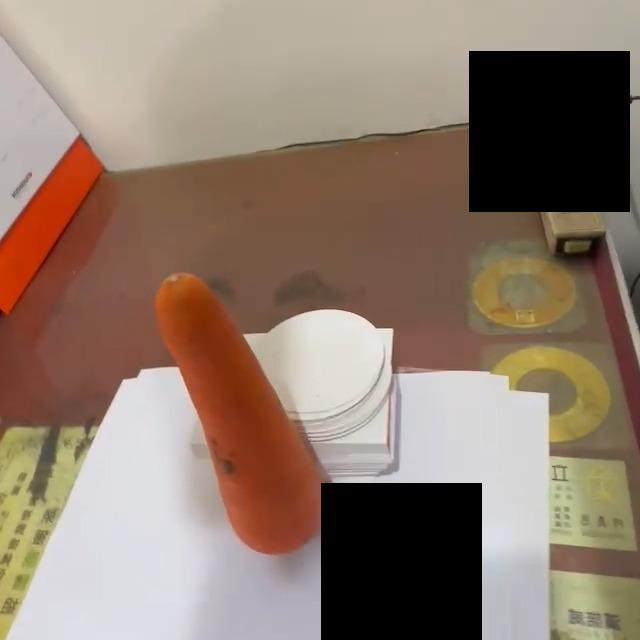carrot: (156, 270, 328, 560)
